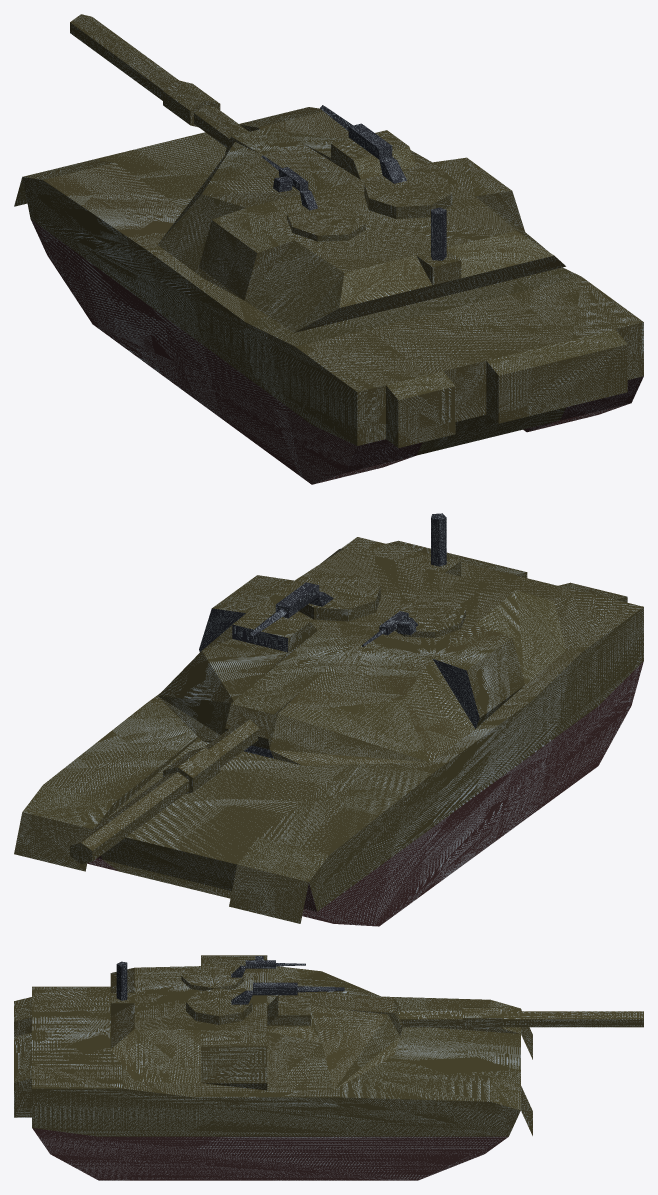
Rendered from RT_5BigTank.dae.
3 renders of one model, top to bottom at view 1: azimuth 30°, elevation 25°; view 2: azimuth 150°, elevation 25°; view 3: azimuth 270°, elevation 25°, orthographic. The views are drawn at different scales.
Visible parts, largest first — view 1: M1A1_01_1 (×12); view 2: M1A1_01_1 (×14); view 3: M1A1_01_1 (×12).
Part boxes in pixels (x1=…): M1A1_01_1 (×12): x1=14, y1=14, x2=643, y2=484; M1A1_01_1 (×14): x1=14, y1=513, x2=643, y2=926; M1A1_01_1 (×12): x1=14, y1=955, x2=643, y2=1180.
Size of the model in its own units: 3.75 by 9.79 by 2.84.
